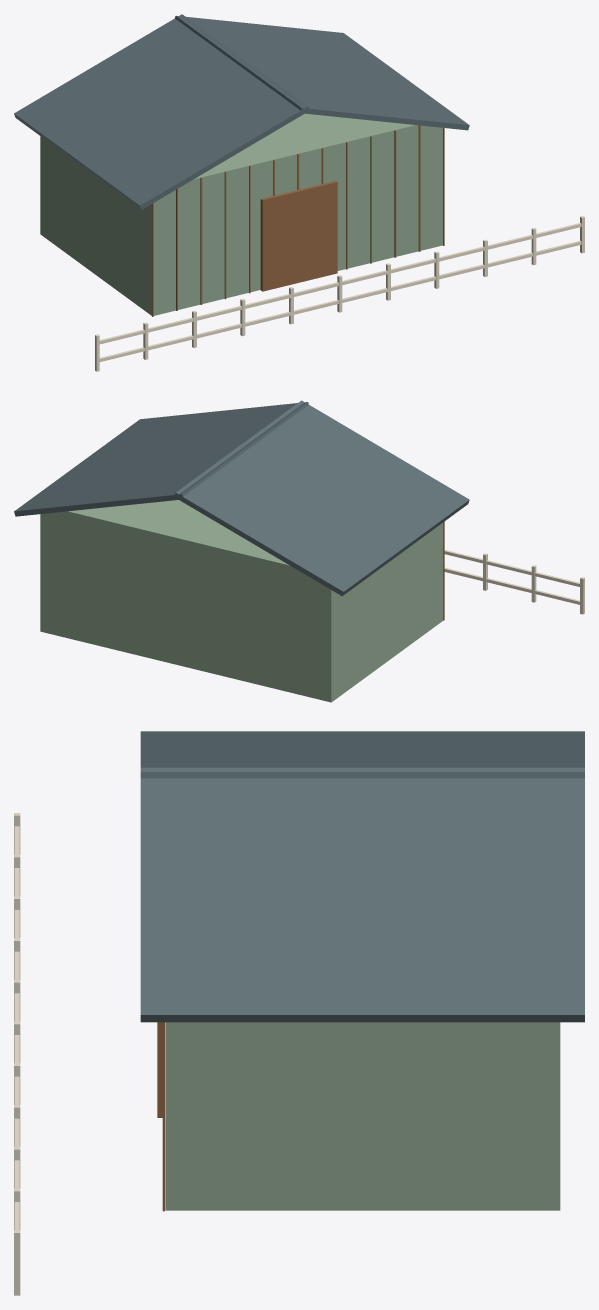
The model's file is barn.glb.
3 views of the same model, one above another, from view 1: azimuth 30°, elevation 25°; view 2: azimuth 150°, elevation 25°; view 3: azimuth 270°, elevation 25° (orthographic). The views are drawn at different scales.
Visible parts, largest first — view 1: Barn, Pitched roof, Pitched roof.001, Barn door, Fence rail, Fence rail.001; view 2: Barn, Pitched roof, Pitched roof.001, Fence rail.001, Fence rail; view 3: Pitched roof.001, Barn, Pitched roof, Fence rail.001.
Boxes of the visible parts, x1,y1,x2,y2 form: Barn: [40, 113, 442, 315]; Pitched roof: [14, 14, 309, 209]; Pitched roof.001: [175, 15, 469, 130]; Barn door: [260, 180, 337, 291]; Fence rail: [99, 240, 581, 361]; Fence rail.001: [99, 223, 581, 344]; Barn: [40, 500, 443, 702]; Pitched roof: [174, 400, 469, 596]; Pitched roof.001: [14, 402, 308, 516]; Fence rail.001: [444, 550, 579, 586]; Fence rail: [444, 567, 579, 604]; Pitched roof.001: [140, 767, 584, 1022]; Barn: [165, 1022, 560, 1210]; Pitched roof: [140, 731, 584, 778]; Fence rail.001: [14, 826, 19, 1230].
Size of the model in its own units: 20.13 by 7.04 by 11.56.
